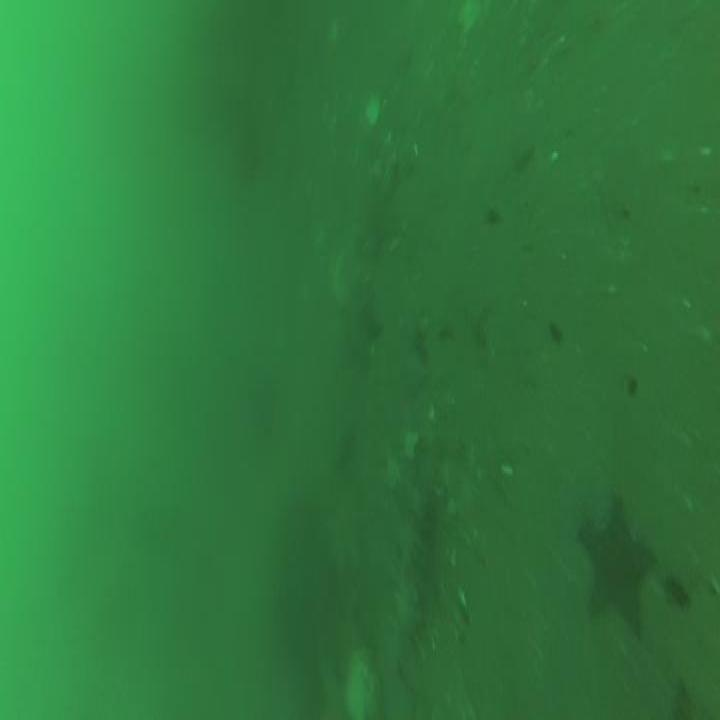holothurian: (398, 464, 437, 604)
starfish: (579, 492, 654, 634)
